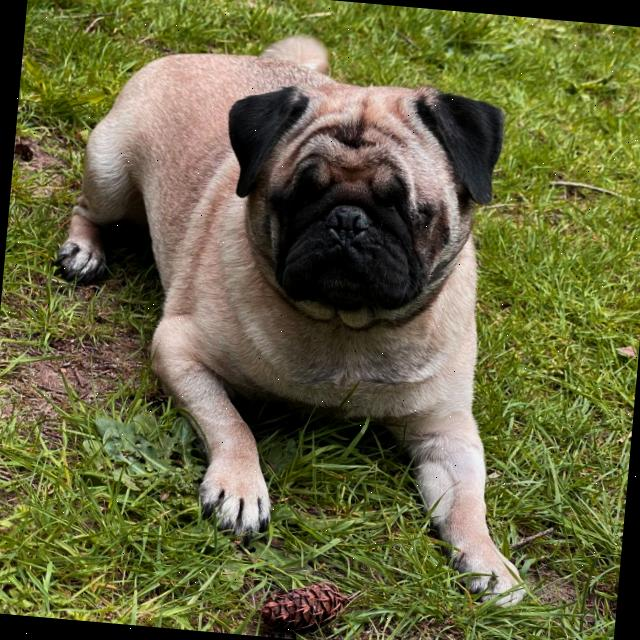pug_dog: (196, 68, 526, 348)
